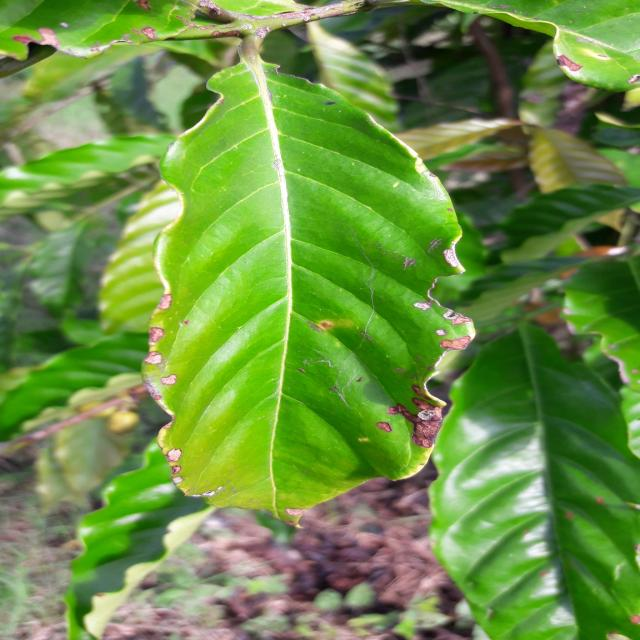Enfermedad-Roya: (144, 60, 474, 516)
